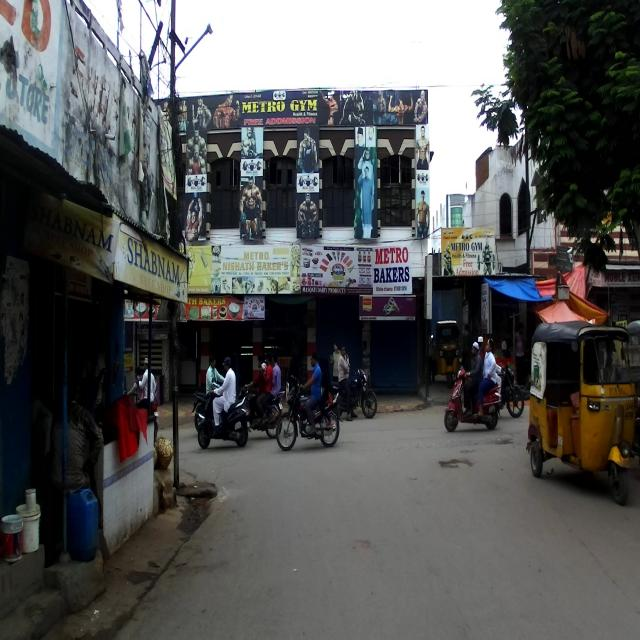autorickshaw: (526, 320, 637, 504)
motorcycle_Hero: (275, 379, 342, 451)
scooter: (444, 354, 501, 434), (196, 376, 250, 448)
